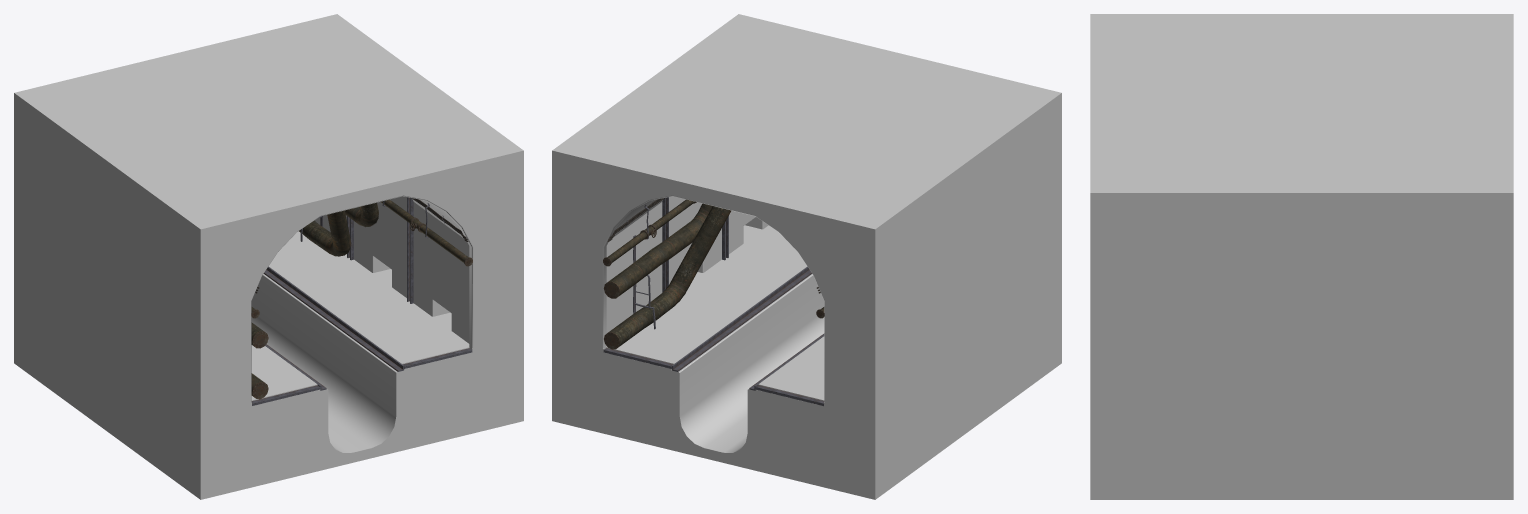
The model's file is SM_Sewer_Tunnel_B.fbx.
The picture shows the model from 3 angles, left to right: view 1: azimuth 30°, elevation 25°; view 2: azimuth 150°, elevation 25°; view 3: azimuth 270°, elevation 25°; orthographic projection. The views are drawn at different scales.
Parts seen in each view (by area): view 1: Ceiling, Base, Wall_Left, Wall_Right, Pipes_Big, Bulks_floor, Halo_Front, Pipes_Small_Right, Bulks_Wall; view 2: Ceiling, Base, Wall_Left, Wall_Right, Pipes_Big, Bulks_floor, Halo_Back, Pipes_Small_Right, Bulks_Wall; view 3: Ceiling, Wall_Right, Base.
Part boxes in pixels (bbox=[...]): Ceiling: bbox=[14, 14, 523, 313]; Base: bbox=[14, 231, 523, 499]; Wall_Left: bbox=[14, 177, 249, 415]; Wall_Right: bbox=[314, 196, 523, 347]; Pipes_Big: bbox=[251, 202, 378, 398]; Bulks_floor: bbox=[251, 266, 472, 405]; Halo_Front: bbox=[248, 193, 475, 404]; Pipes_Small_Right: bbox=[380, 199, 472, 266]; Bulks_Wall: bbox=[347, 197, 413, 303]; Ceiling: bbox=[552, 14, 1061, 313]; Base: bbox=[552, 225, 1061, 499]; Wall_Left: bbox=[826, 177, 1061, 415]; Wall_Right: bbox=[552, 196, 768, 348]; Pipes_Big: bbox=[604, 203, 731, 349]; Bulks_floor: bbox=[603, 266, 824, 406]; Halo_Back: bbox=[600, 193, 827, 404]; Pipes_Small_Right: bbox=[603, 199, 696, 266]; Bulks_Wall: bbox=[662, 197, 728, 292]; Ceiling: bbox=[1090, 14, 1513, 288]; Wall_Right: bbox=[1090, 289, 1513, 403]; Base: bbox=[1090, 404, 1513, 499].
Size of the model in its own units: 1000 by 800 by 1000.
